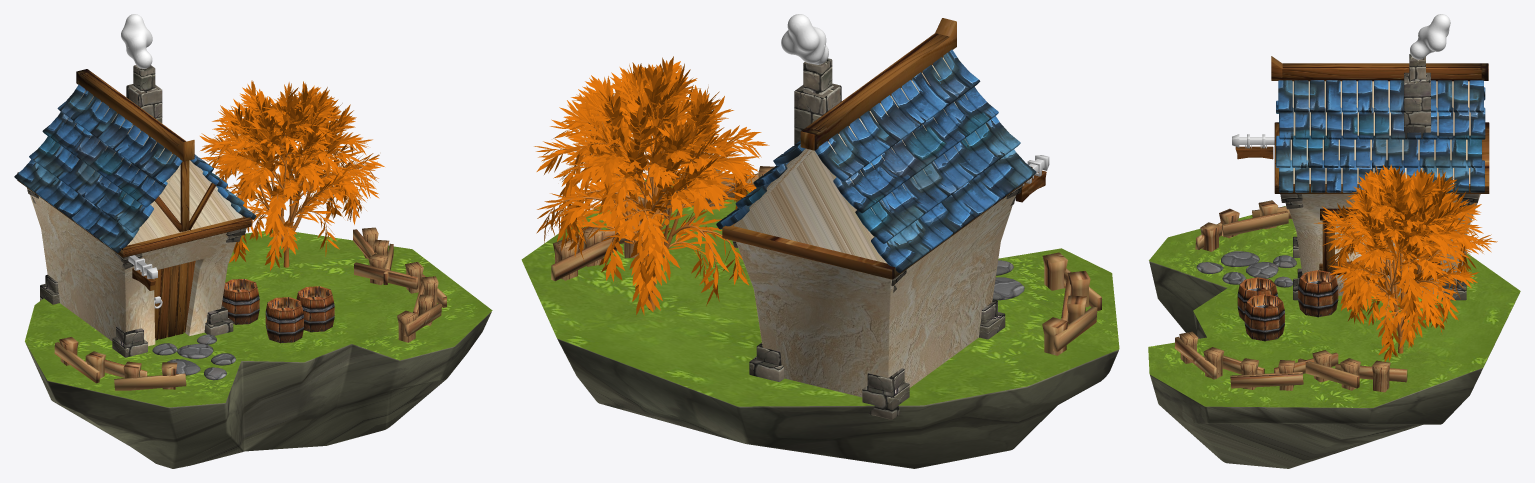
Rendered from ile_flottante-opt.glb.
The picture shows the model from 3 angles, left to right: view 1: azimuth 30°, elevation 25°; view 2: azimuth 150°, elevation 25°; view 3: azimuth 270°, elevation 25°; orthographic projection. The views are drawn at different scales.
Size of the model in its own units: 6.25 by 5.64 by 4.88.
Materials: 15 (11 with a texture image).
